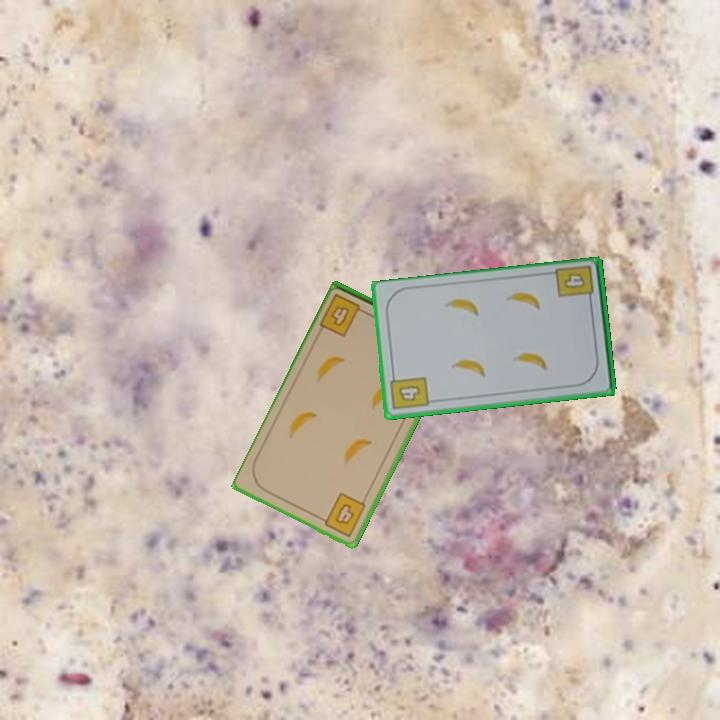4b: (316, 290, 371, 340), (316, 489, 369, 540), (553, 262, 597, 307), (387, 370, 432, 413)
